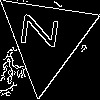Z: (20, 13, 67, 50)
